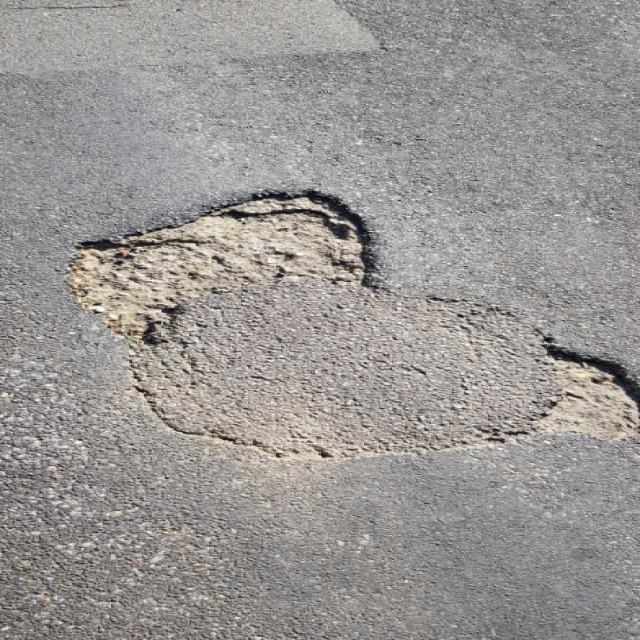Pothole: (58, 187, 382, 339), (521, 340, 640, 447)
